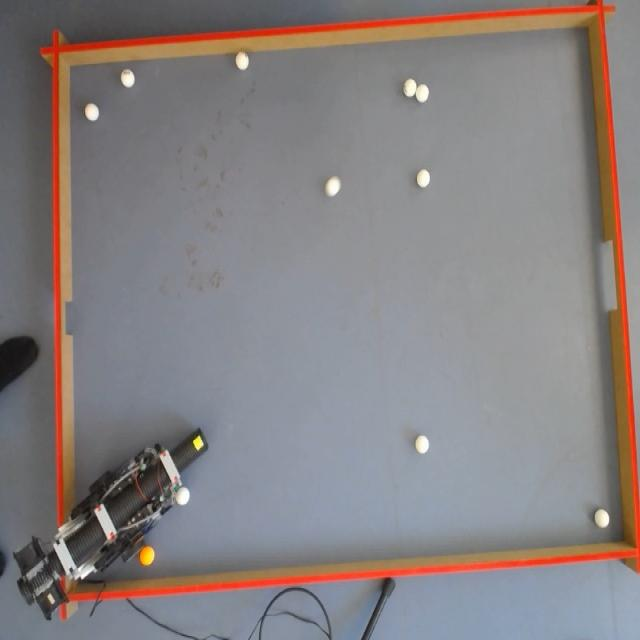orange-golf-balls: (140, 547, 156, 566)
robot: (13, 431, 208, 621)
robot-front: (171, 429, 208, 472)
white-golf-balls: (324, 175, 342, 197), (594, 508, 611, 530), (84, 101, 100, 122), (120, 69, 137, 88), (416, 82, 429, 104), (415, 435, 430, 454), (235, 51, 249, 71), (416, 169, 431, 187), (402, 78, 416, 97), (177, 487, 190, 506)
